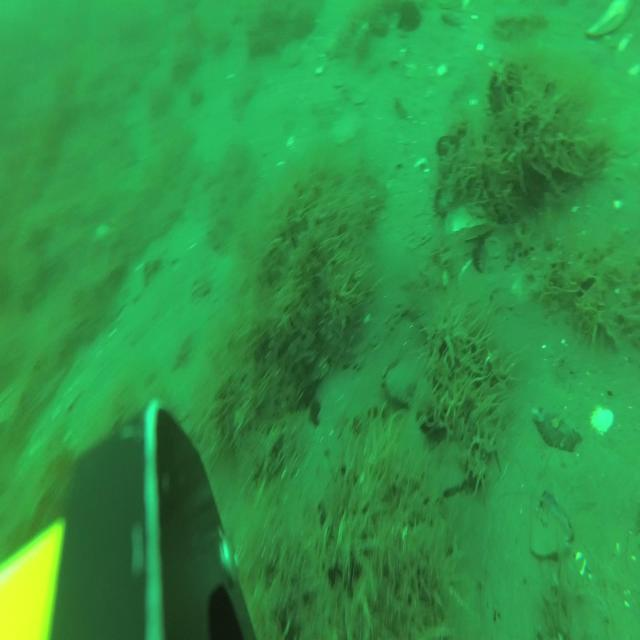scallop: (336, 112, 360, 142), (280, 39, 302, 70), (344, 83, 364, 100)
